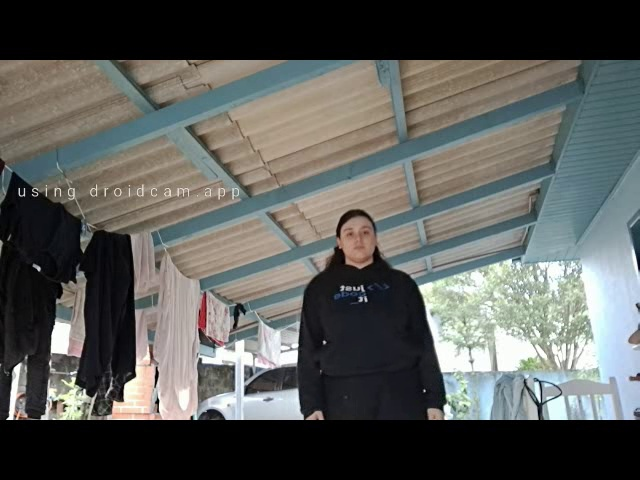MULHER: (324, 194, 435, 295)
